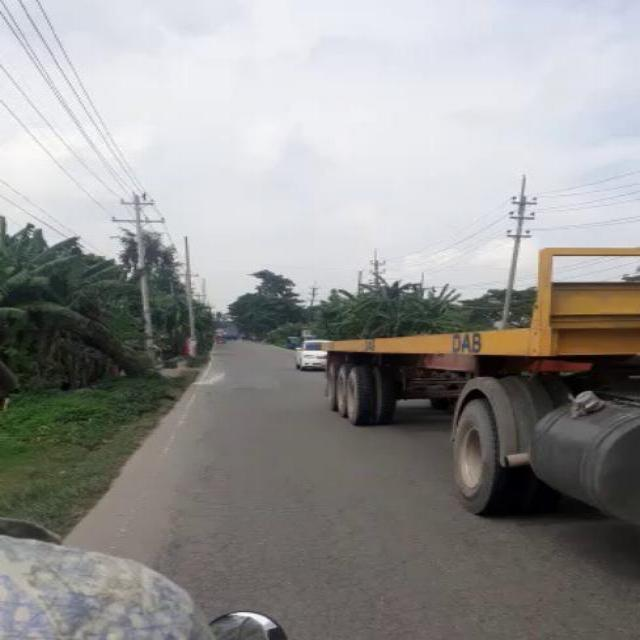vehicle: (322, 247, 639, 515), (290, 338, 332, 368)
